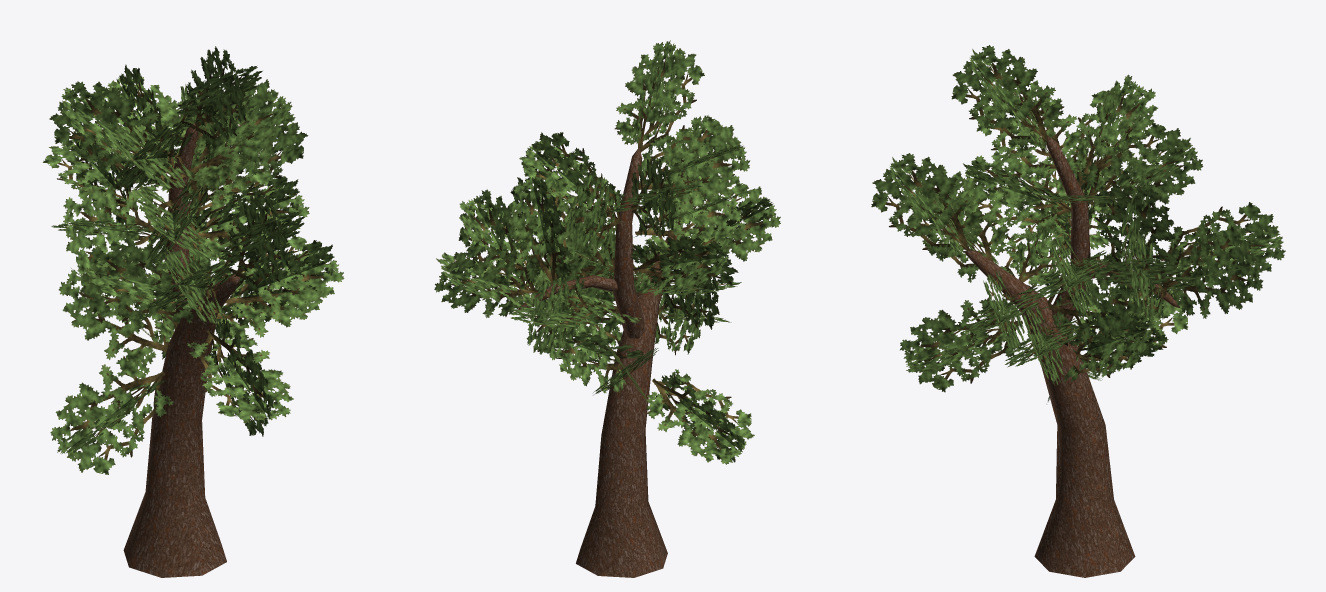
The model's file is TerrainTree5.fbx.
The picture shows the model from 3 angles, left to right: view 1: azimuth 30°, elevation 25°; view 2: azimuth 150°, elevation 25°; view 3: azimuth 270°, elevation 25°; orthographic projection. The views are drawn at different scales.
Visible parts, largest first — view 1: Tree1; view 2: Tree1; view 3: Tree1.
Part boxes in pixels (left/top/right/bottom): Tree1: left=43, top=46, right=344, bottom=577; Tree1: left=434, top=40, right=780, bottom=577; Tree1: left=871, top=45, right=1285, bottom=577.
Size of the model in its own units: 300 by 475 by 375.
